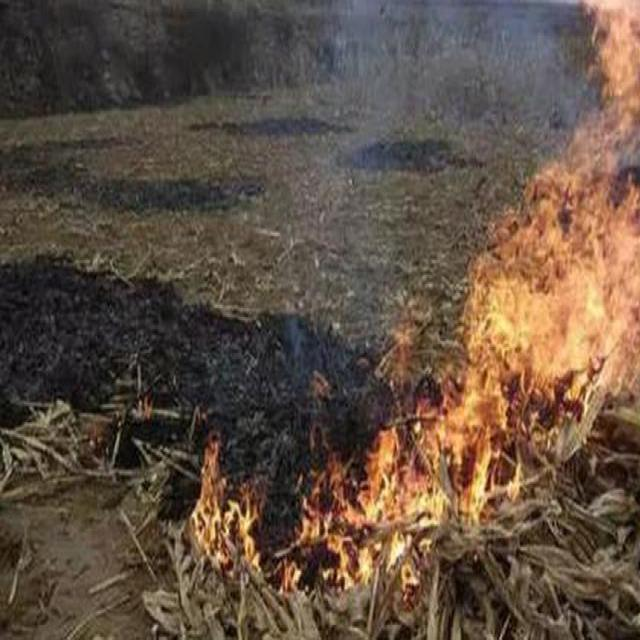fire: (460, 3, 634, 413), (275, 396, 502, 588), (187, 427, 281, 588)
